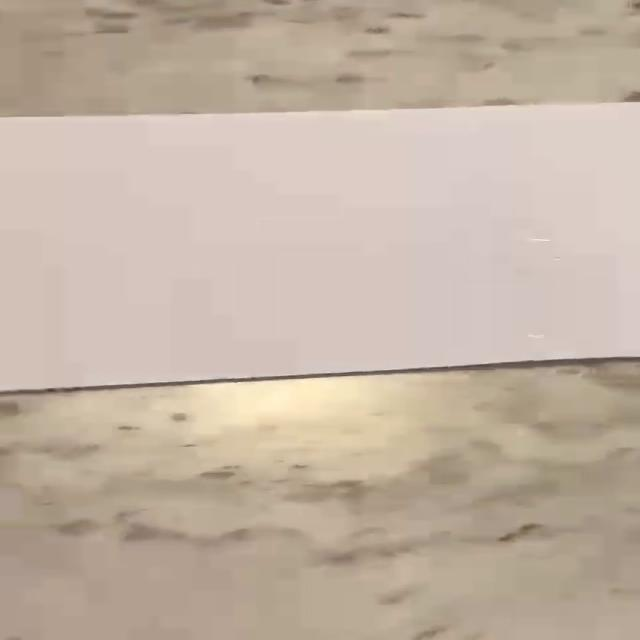road: (2, 103, 640, 390)
